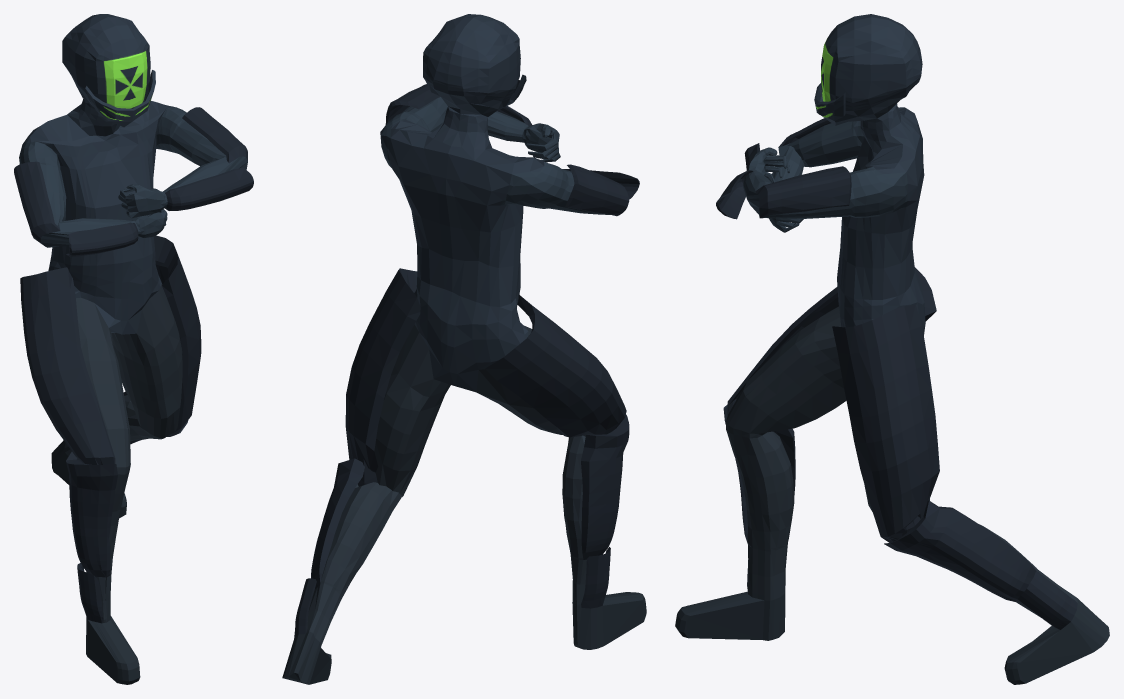
File: Bastion_WL_000022.obj
3 views of the same model, side by side, from view 1: azimuth 30°, elevation 25°; view 2: azimuth 150°, elevation 25°; view 3: azimuth 270°, elevation 25° (orthographic). The views are drawn at different scales.
Visible parts, largest first — view 1: Cube.002; view 2: Cube.002; view 3: Cube.002.
Part boxes in pixels (x1=…): Cube.002: x1=14, y1=14, x2=253, y2=684; Cube.002: x1=282, y1=14, x2=646, y2=684; Cube.002: x1=675, y1=14, x2=1109, y2=684.
Size of the model in its own units: 1.34 by 3.58 by 2.17.
